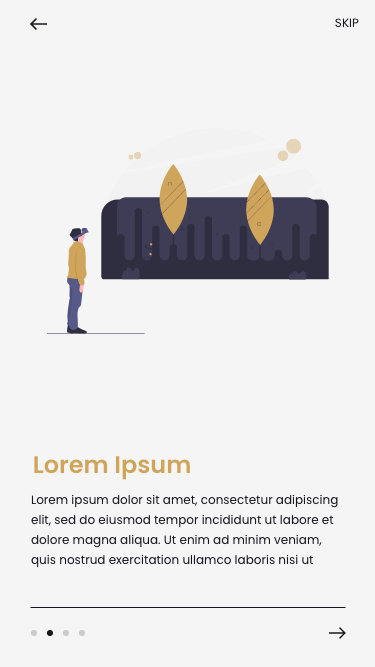Icon: (328, 626, 347, 640), (30, 18, 49, 31)
Image: (46, 128, 330, 335)
PageIndicator: (31, 628, 87, 638)
Text: (31, 494, 339, 568), (34, 455, 191, 480), (334, 18, 360, 29)
